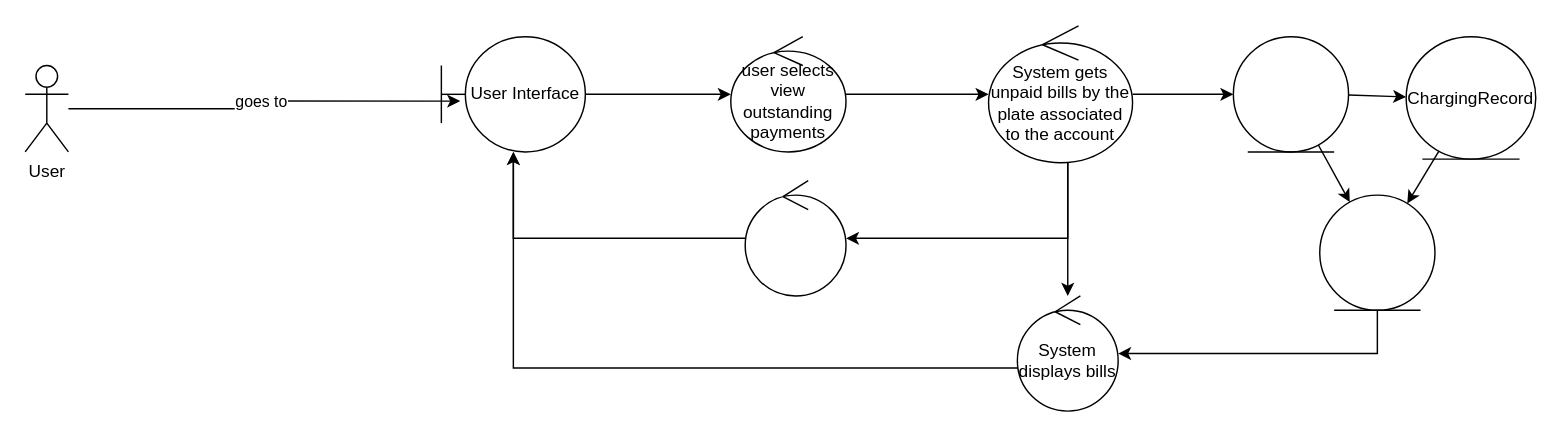
This 1561x436 diagram has some shape labels left out. Each missing label, with the centre of its shape:
"Account" belongs at (x=1290, y=93).
"Bill" belongs at (x=1376, y=252).
"Error message display" belongs at (x=795, y=237).
